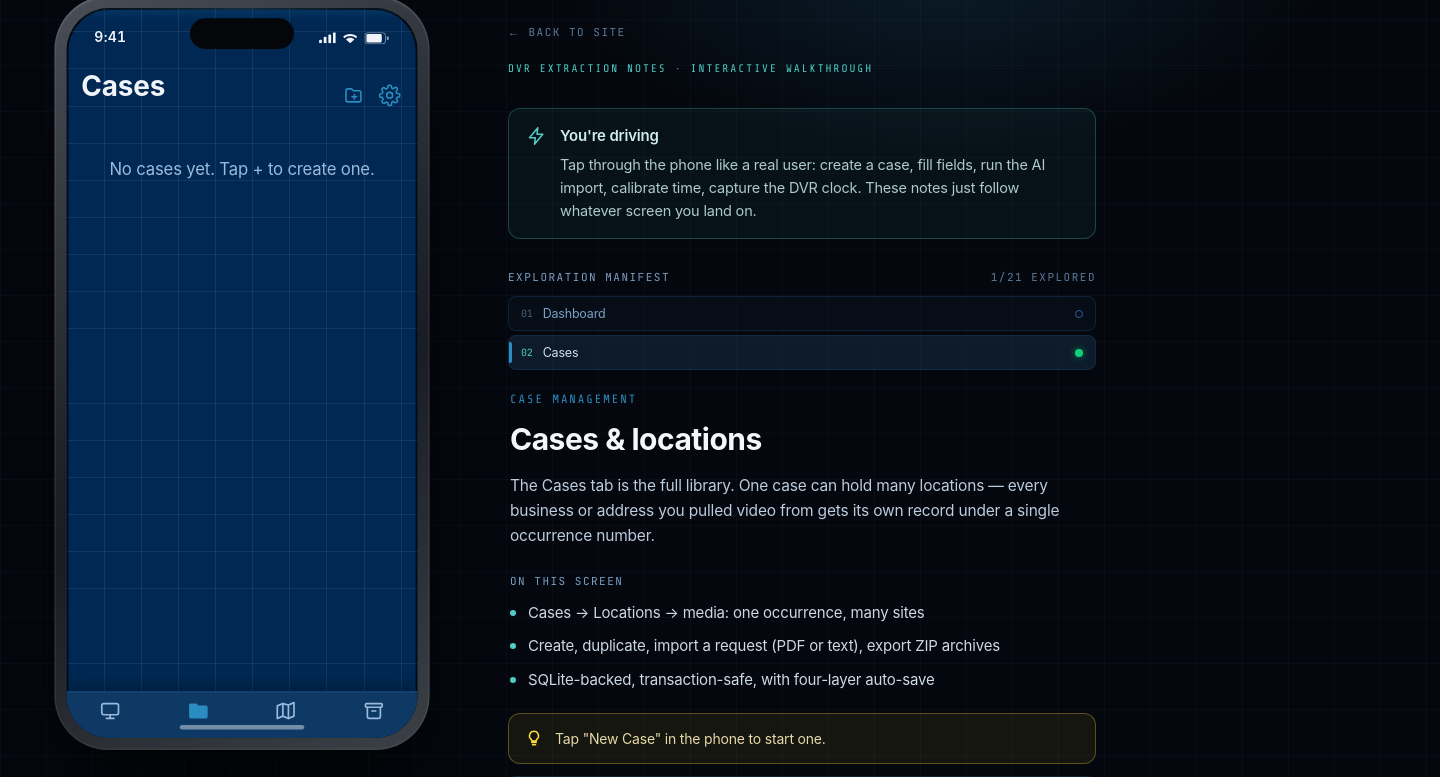
Test case: DemoExperience — Map tab wiring › clicking the Map tab opens the Map screen
The width and height of the screenshot is (1440, 777).
Click the button named "Map" at (286, 712), box [242, 698, 330, 727]
(page scrolled)
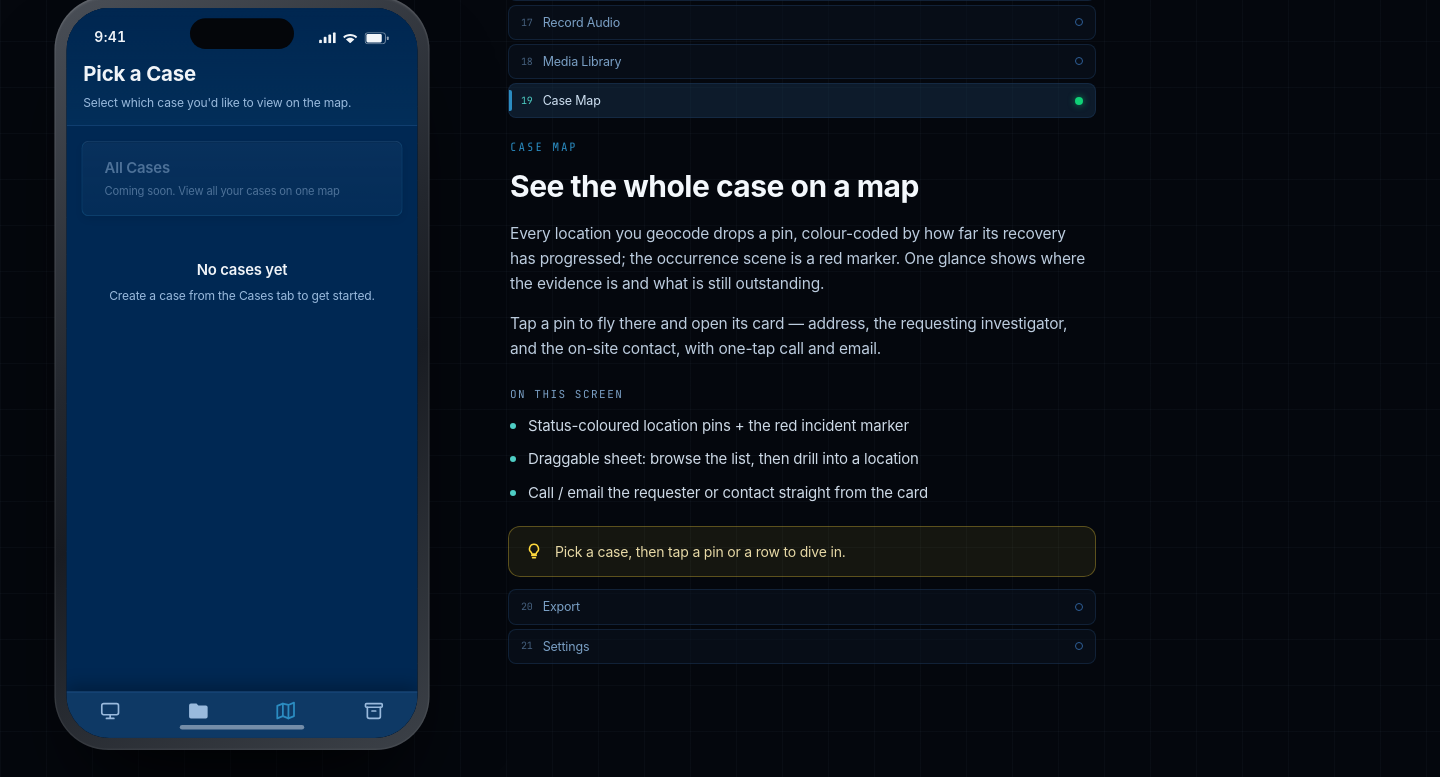
Result: the element that starts with "No case selected" is shown at [66, 8, 418, 738]
